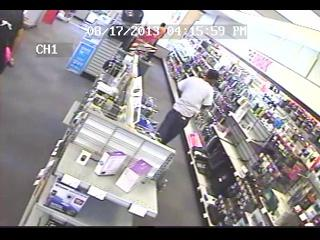Normal: (153, 69, 220, 148), (0, 13, 20, 70)
